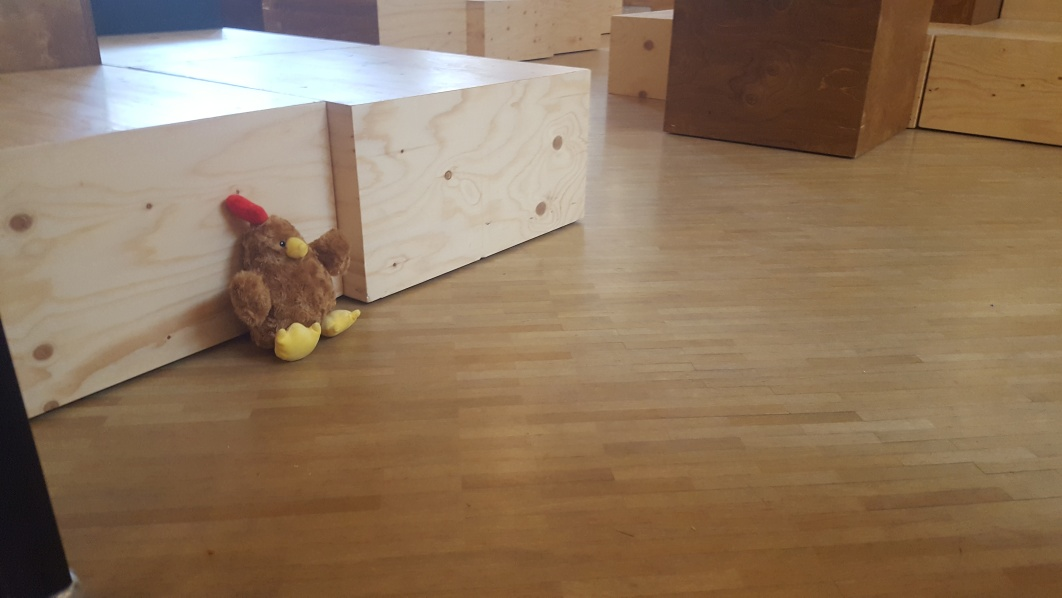chicken: (219, 190, 363, 364)
